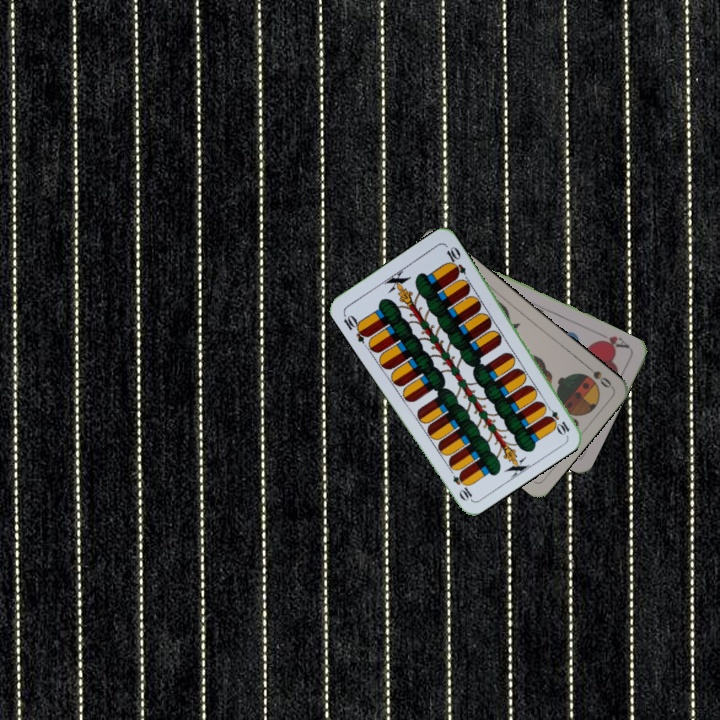E10: (339, 309, 372, 346), (541, 400, 572, 437)
HA: (593, 329, 632, 352)
SO: (580, 360, 614, 390)
